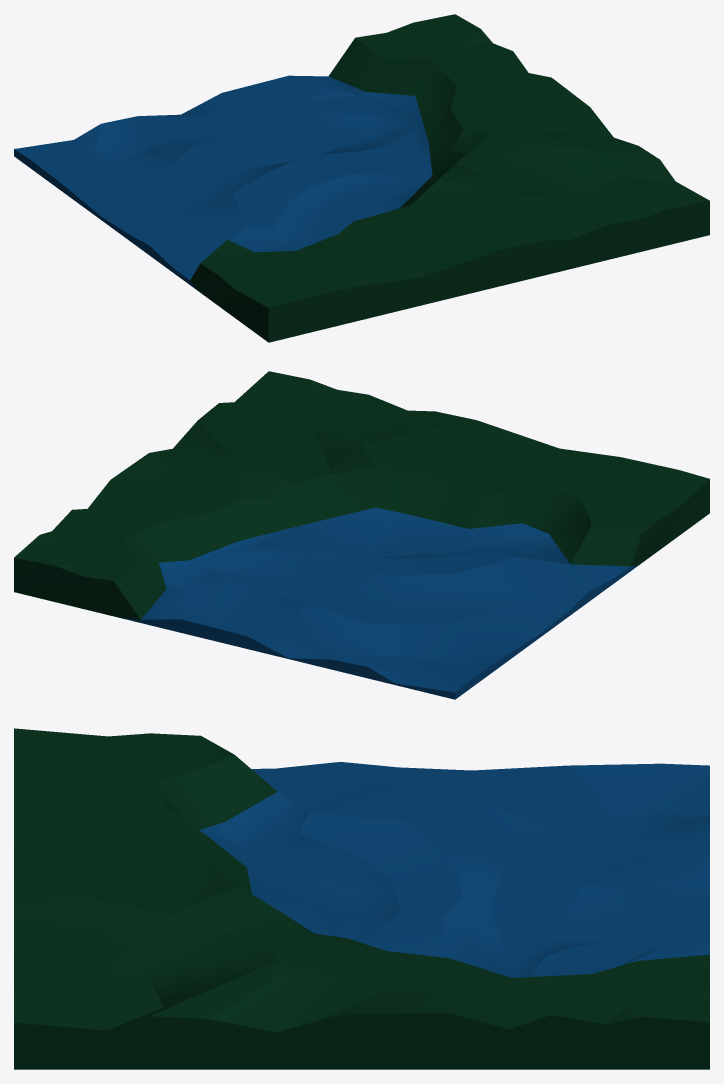
File: Water_Round_RB.fbx
3 views of the same model, one above another, from view 1: azimuth 30°, elevation 25°; view 2: azimuth 150°, elevation 25°; view 3: azimuth 270°, elevation 25° (orthographic). The views are drawn at different scales.
Visible parts, largest first — view 1: Water_Round_RB; view 2: Water_Round_RB; view 3: Water_Round_RB.
Part boxes in pixels (<box>): Water_Round_RB: <box>14,14,709,342</box>; Water_Round_RB: <box>14,371,709,699</box>; Water_Round_RB: <box>14,728,709,1069</box>.
Bounding box in the file's own units: 147 × 13.54 × 147.
